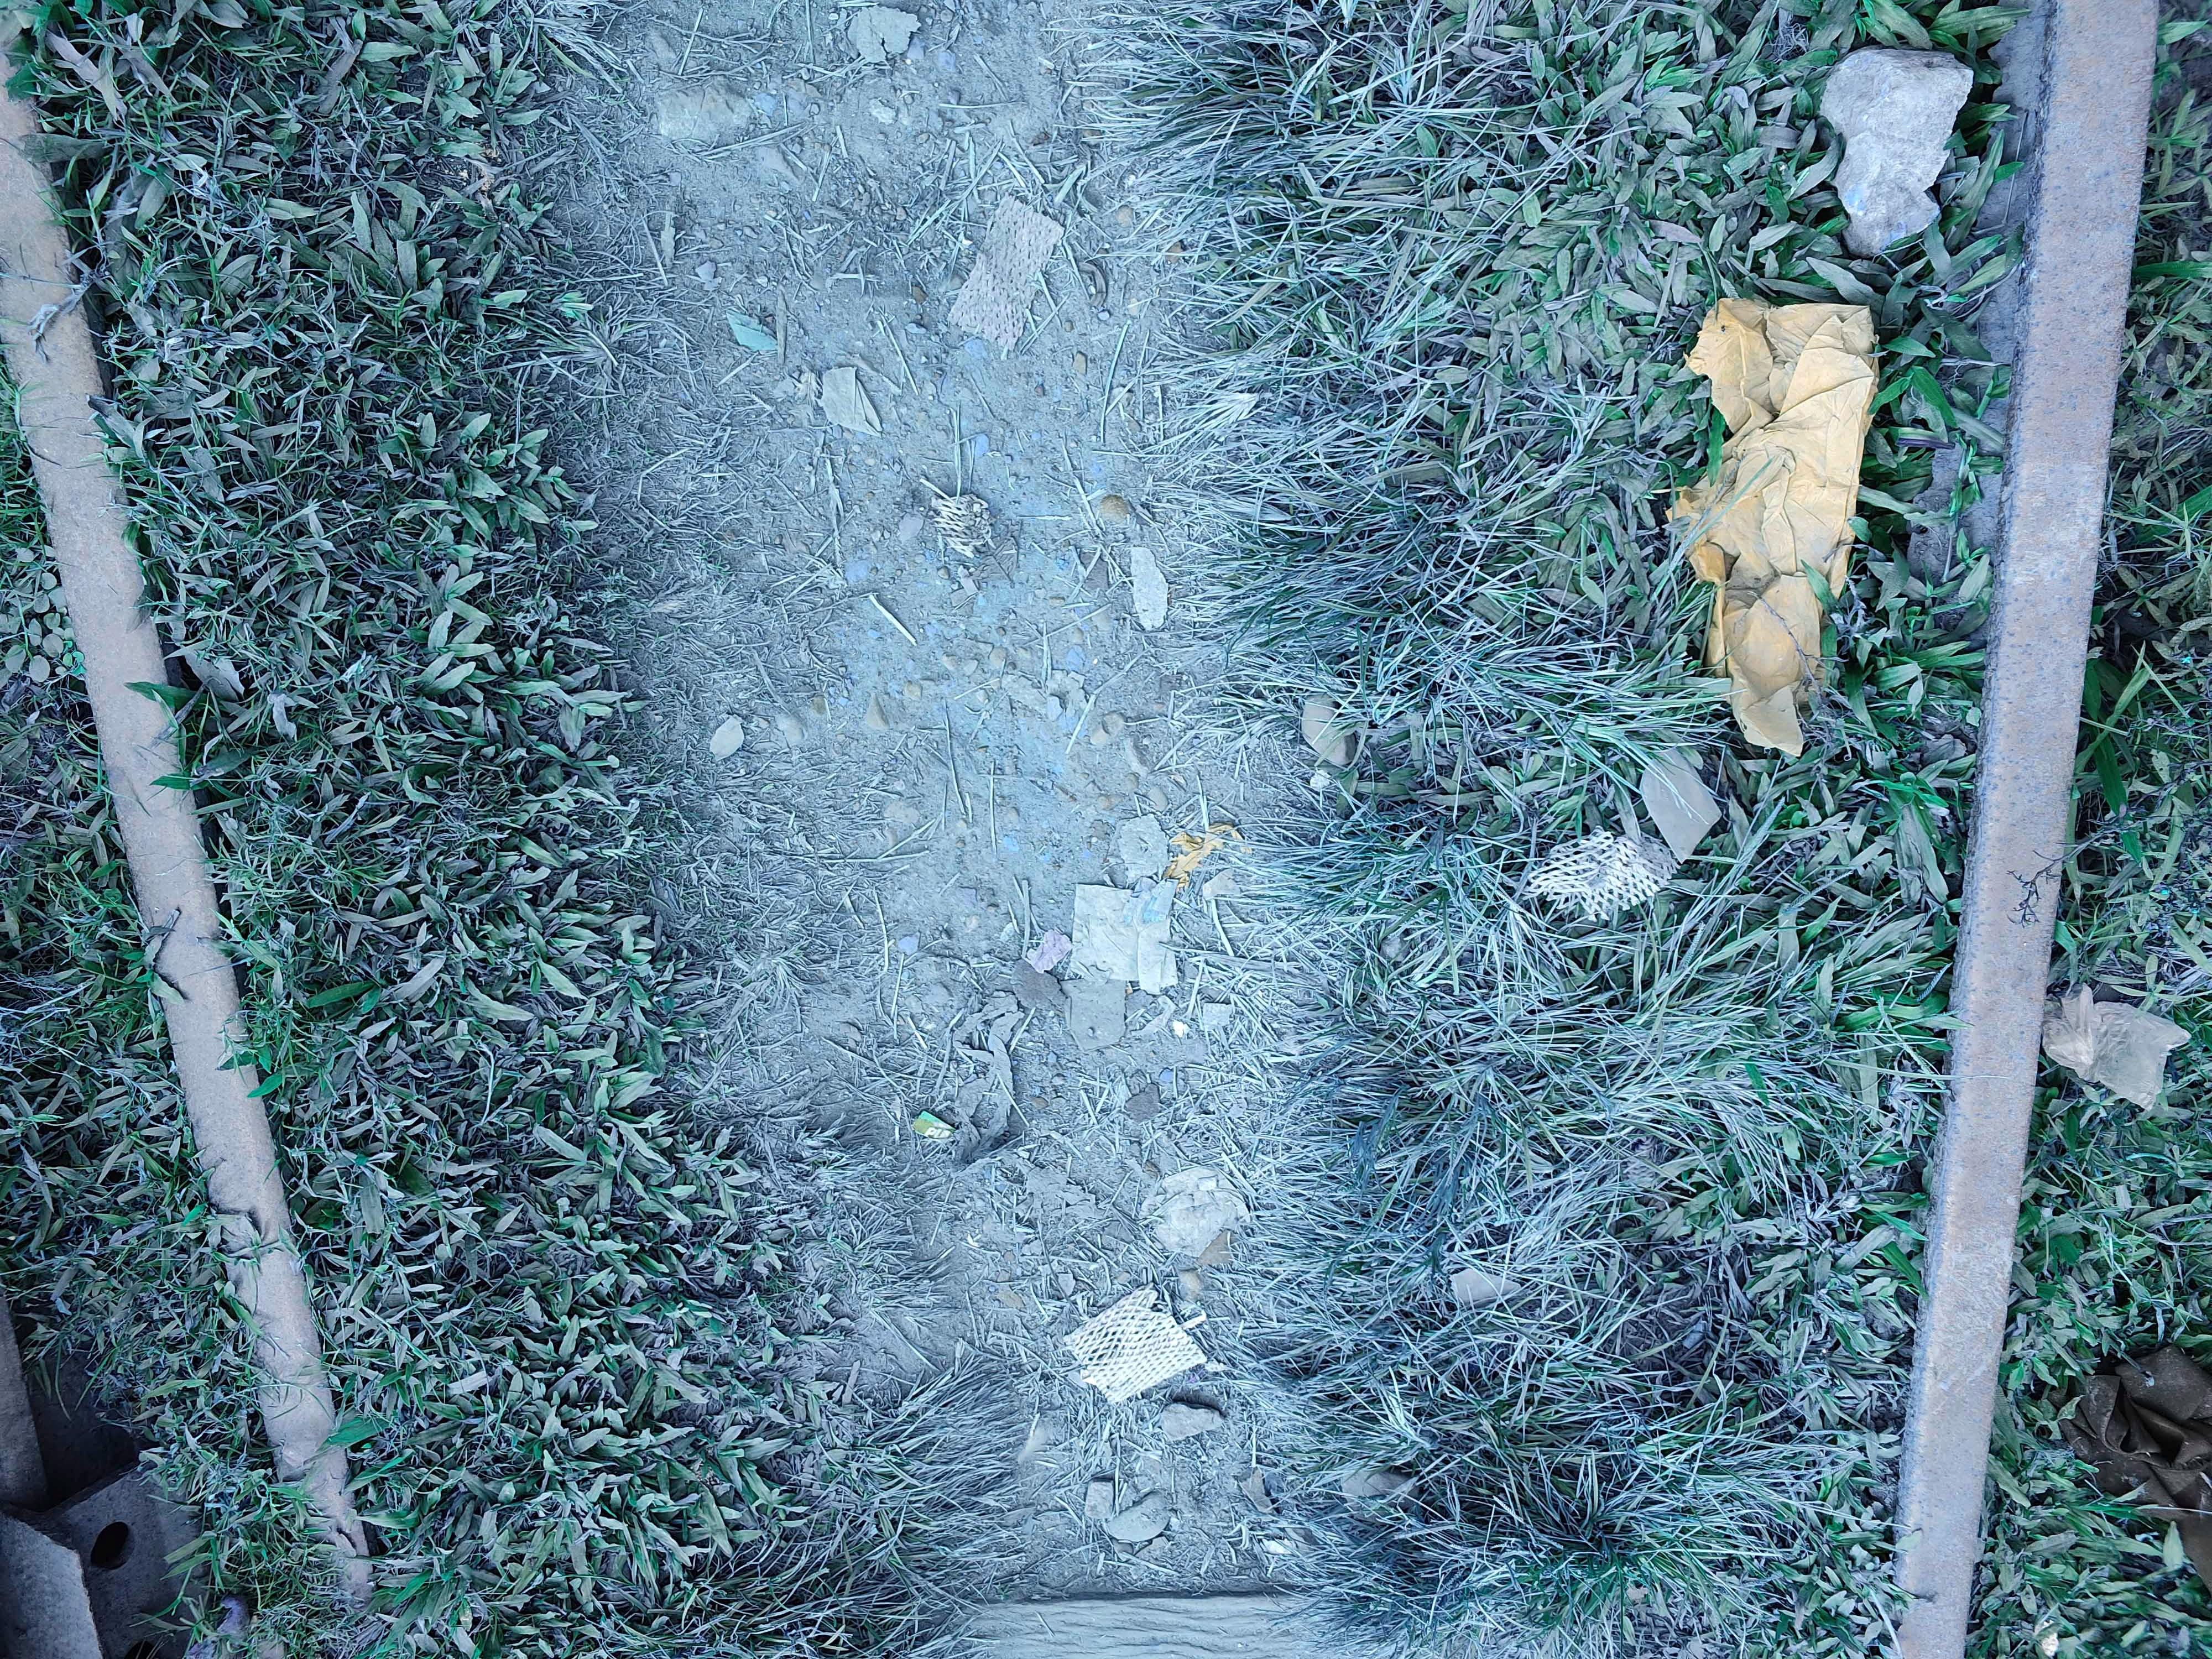error3: (2001, 420, 2120, 673)
